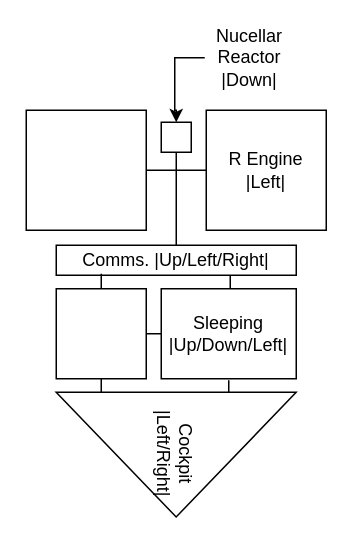
This 353x545 diagram has some shape labels left out. The box of each missing label's shape, as (x1, y1, x2, y2) in pixels:
Air Lock |Up/Down/ Right|: (55, 287, 146, 379)
L Engine |Right|: (25, 109, 146, 230)
